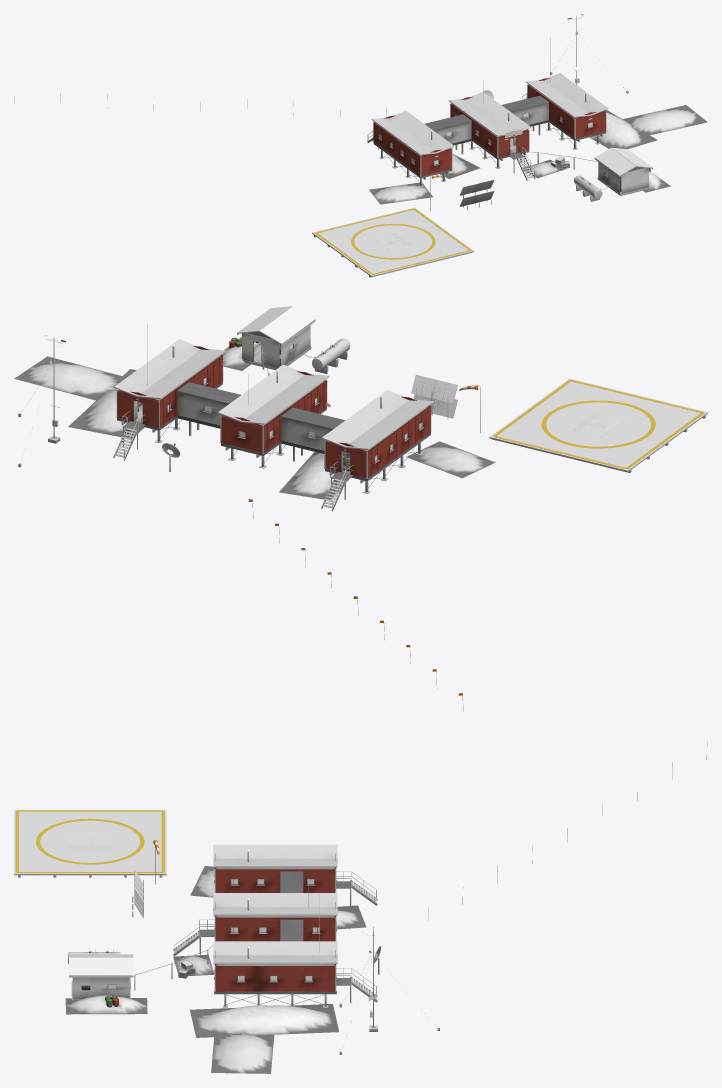
File: kestrel_station.glb
The picture shows the model from 3 angles, top to bottom: view 1: azimuth 30°, elevation 25°; view 2: azimuth 150°, elevation 25°; view 3: azimuth 270°, elevation 25°; orthographic projection. The views are drawn at different scales.
Visible parts, largest first — view 1: main, ground, detail; view 2: main, ground, detail; view 3: main, ground, detail.
Part boxes in pixels (x1,y1,x2,y2): main: (312, 14, 652, 277); ground: (369, 105, 707, 204); detail: (14, 29, 628, 189); main: (45, 306, 707, 511); ground: (14, 337, 495, 499); detail: (18, 344, 463, 711); main: (14, 809, 381, 1031); ground: (65, 866, 366, 1073); detail: (134, 741, 707, 1054).
Size of the model in its own units: 68.51 by 10.95 by 63.7.
